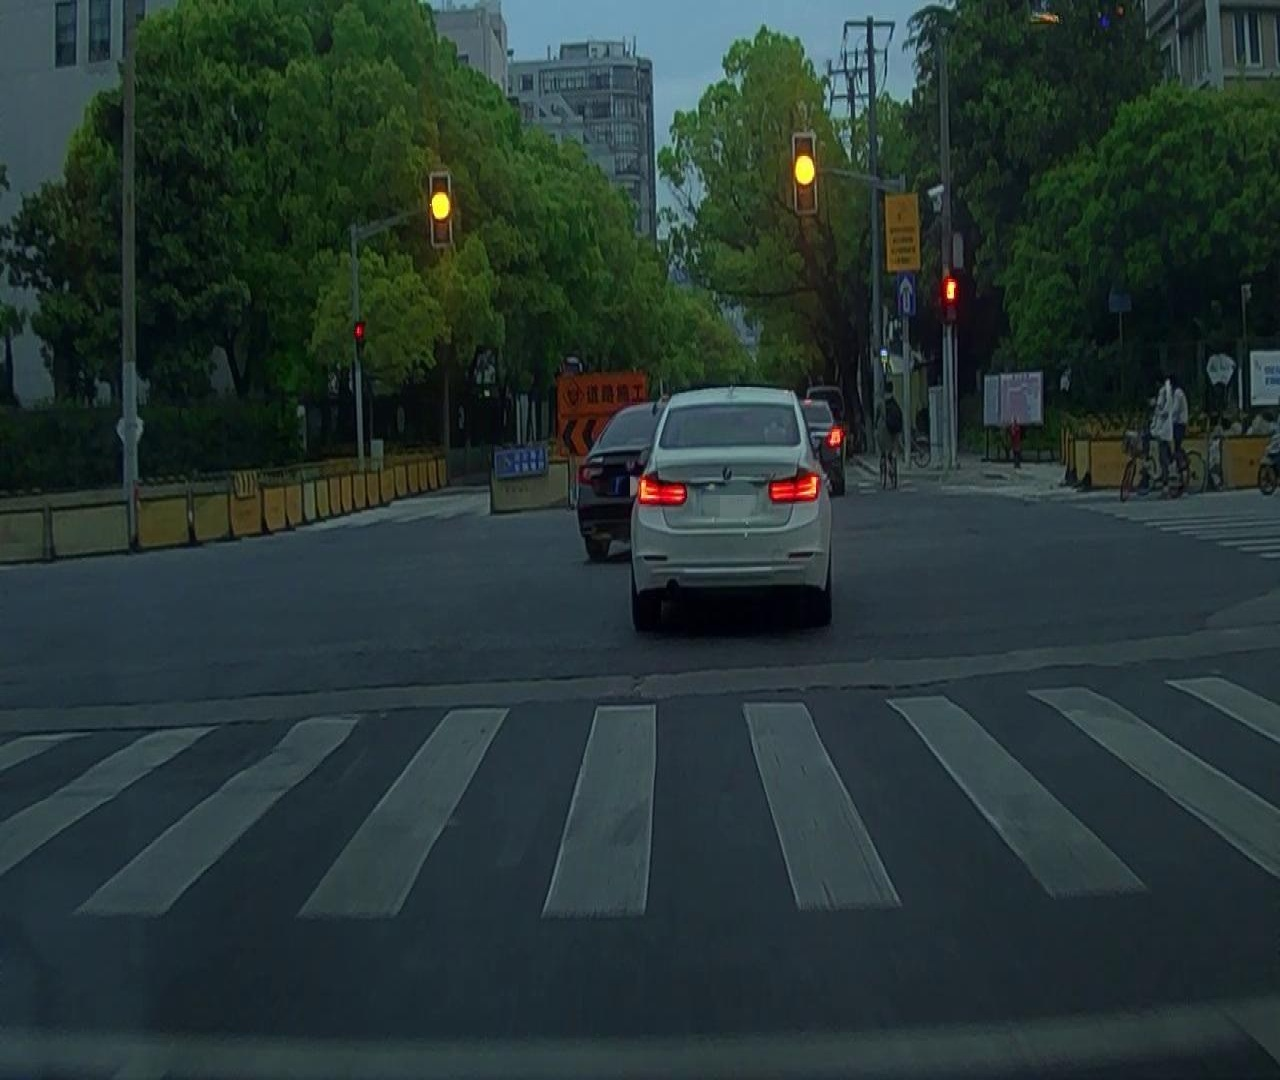yellow: (794, 135, 815, 213), (431, 174, 450, 246)
